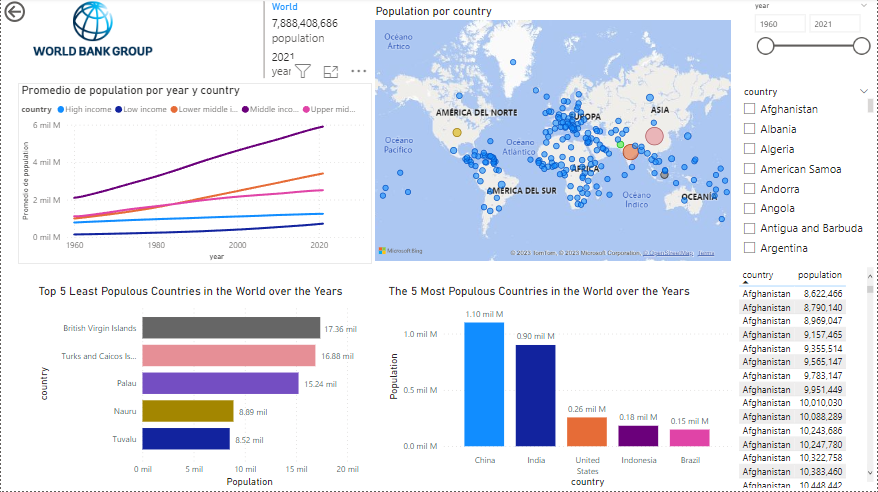

Layout of this report page (visuals, bound fields, positions):
{"tool":"powerbi","page":{"name":"Página 1","canvas":[1280,720],"ordinal":0},"visuals":[{"type":"columnChart","title":"The 5 Most Populous Countries in the World over the Years","fields":{"Category":["country_data.country"],"Y":["Avg(country_data.population)"],"Series":["country_data.country"]},"box":[560.8,417.7,511.2,300.9],"z":0},{"type":"barChart","title":"Top 5 Least Populous Countries in the World over the Years","fields":{"Category":["country_data.country"],"Y":["Avg(country_data.population)"],"Series":["country_data.country"]},"box":[49.7,417.7,492.2,300.9],"z":1000},{"type":"tableEx","fields":{"Values":["country_data.country","country_data.population"]},"box":[1072,388.5,207.4,331.5],"z":2000},{"type":"map","title":"Population por country","fields":{"Category":["country_data.country"],"Size":["Sum(country_data.population)"]},"box":[541.8,8.8,530.1,379.7],"z":3000},{"type":"slicer","fields":{"Values":["country_data.country"]},"box":[1072,124.1,207.4,264.3],"z":4000},{"type":"actionButton","box":[0,0,100,40],"z":5000},{"type":"multiRowCard","fields":{"Values":["clean_data.country","clean_data.population","clean_data.year"]},"box":[378.3,0,163.6,130],"z":6000},{"type":"slicer","fields":{"Values":["country_data.year"]},"box":[1088.5,0,189.8,110.9],"z":7000},{"type":"lineChart","fields":{"Y":["Avg(clean_data.population)"],"Category":["clean_data.year"],"Series":["clean_data.country"]},"box":[24.8,124.1,517,264.3],"z":8000},{"type":"image","box":[0,0,267.3,89.1],"z":8001}]}

Visuals, with their boxes in screenshot pixels (x1, y1, x2, y2), scaled from the page's 1280x720 canvas onto the 878x492 screenshot:
"The 5 Most Populous Countries in the World over the Years" columnChart: crop(385, 285, 735, 491)
"Top 5 Least Populous Countries in the World over the Years" barChart: crop(34, 285, 372, 491)
tableEx - country_data.country x country_data.population: crop(735, 265, 877, 491)
"Population por country" map: crop(372, 6, 735, 265)
slicer - country_data.country: crop(735, 85, 877, 265)
actionButton: crop(0, 0, 69, 27)
multiRowCard - clean_data.country x clean_data.population: crop(259, 0, 372, 89)
slicer - country_data.year: crop(747, 0, 877, 76)
lineChart - Avg(clean_data.population) x clean_data.year: crop(17, 85, 372, 265)
image: crop(0, 0, 183, 61)
